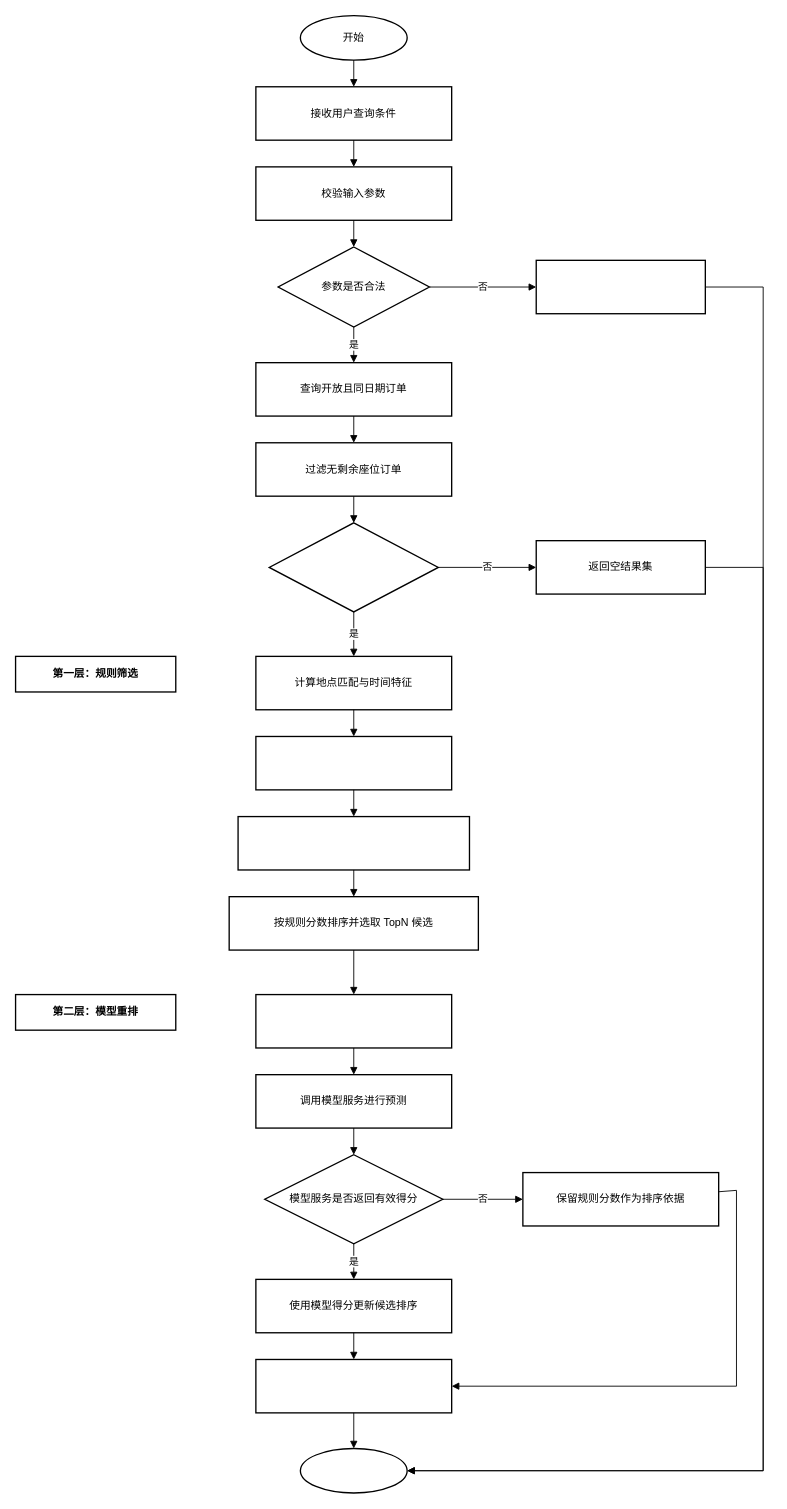
Some shapes in this 787 by 1509 pixel diagram are drawn without their labels. The shapes that lost their labels are listed below. From the top down, each one's centre as x and y in pixels, then its label:
point 620,286: 返回参数错误信息
point 353,567: 是否存在可用候选订单
point 353,762: 获取发布者信用信息
point 353,843: 计算规则分数并生成 RuleScore
point 353,1021: 构造特征数组
point 353,1385: 返回匹配结果
point 353,1470: 结束
